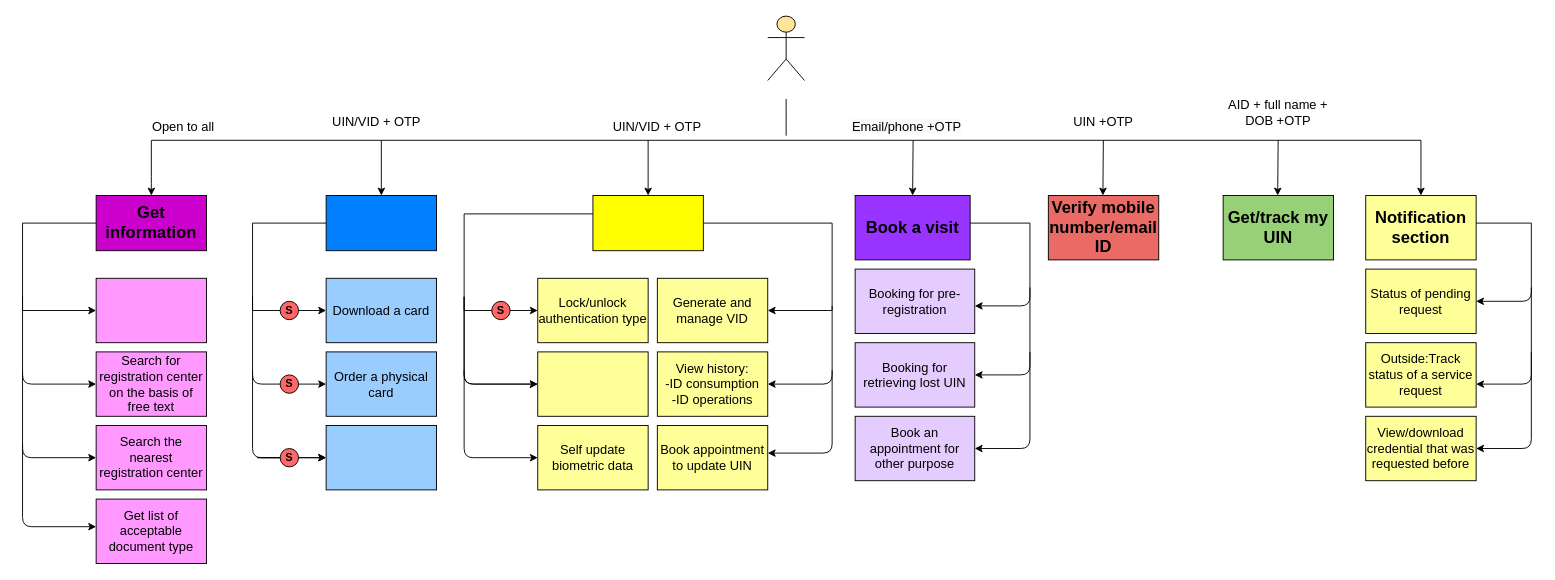
This 1555x580 diagram has some shape labels left out. Here are the shapes that lost their labels. From the top down, the centre of each, then its label:
At (x=786, y=47): "The resident".
At (x=381, y=223): "Issue credential".
At (x=647, y=223): "Manage and track UIN/VID".
At (x=151, y=310): "Search for registration center on the basis of location hierarchy".
At (x=592, y=383): "Self update demographic (non-biometric) data".
At (x=381, y=457): "Share with a partner".
